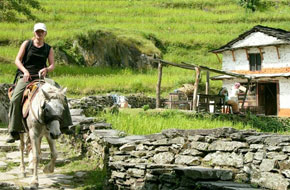equine: (4, 77, 74, 190)
human: (8, 21, 76, 141)
